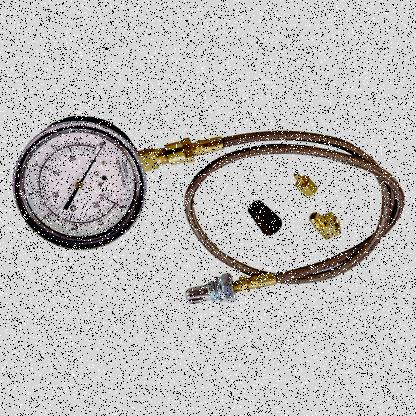needle: (79, 142, 106, 184)
